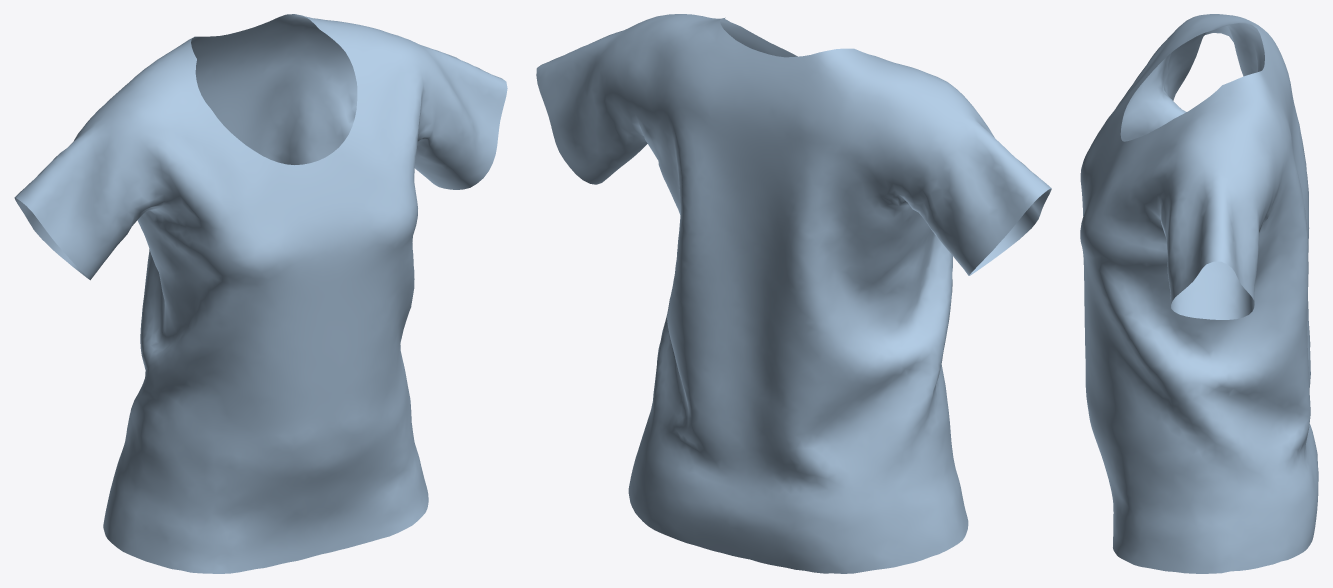
The model's file is tee_M.glb.
The picture shows the model from 3 angles, left to right: view 1: azimuth 30°, elevation 25°; view 2: azimuth 150°, elevation 25°; view 3: azimuth 270°, elevation 25°; orthographic projection. The views are drawn at different scales.
Visible parts, largest first — view 1: geometry_0; view 2: geometry_0; view 3: geometry_0.
Boxes of the visible parts, left/top/right/bottom form: geometry_0: left=14, top=14, right=507, bottom=573; geometry_0: left=536, top=14, right=1051, bottom=573; geometry_0: left=1080, top=14, right=1318, bottom=573.
Size of the model in its own units: 0.628 by 0.5912 by 0.2751.
